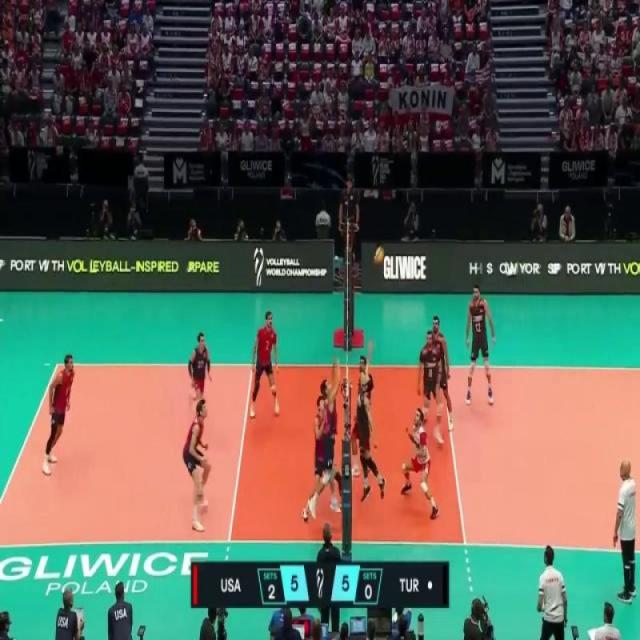volleyball: (374, 242, 386, 266)
